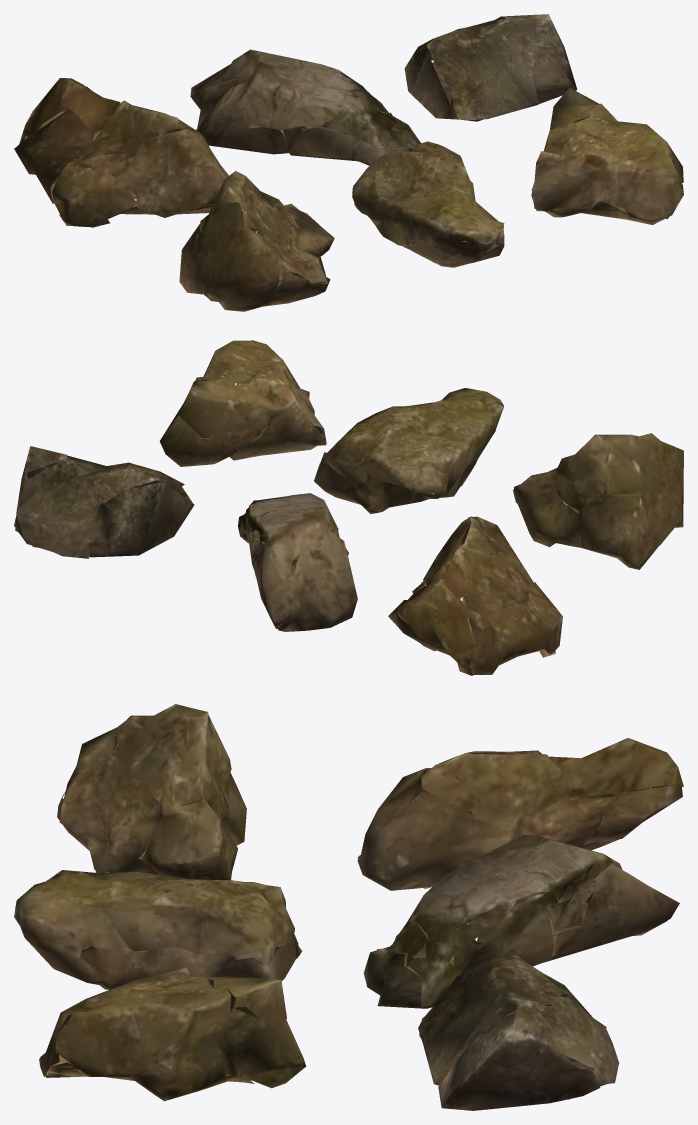
The model's file is rock_moss_set_01.glb.
3 views of the same model, one above another, from view 1: azimuth 30°, elevation 25°; view 2: azimuth 150°, elevation 25°; view 3: azimuth 270°, elevation 25° (orthographic). The views are drawn at different scales.
Visible parts, largest first — view 1: rock_moss_set_01_rock01, rock_moss_set_01_rock02, rock_moss_set_01_rock04, rock_moss_set_01_rock06, rock_moss_set_01_rock03, rock_moss_set_01_rock05; view 2: rock_moss_set_01_rock04, rock_moss_set_01_rock01, rock_moss_set_01_rock05, rock_moss_set_01_rock03, rock_moss_set_01_rock06, rock_moss_set_01_rock02; view 3: rock_moss_set_01_rock01, rock_moss_set_01_rock02, rock_moss_set_01_rock05, rock_moss_set_01_rock04, rock_moss_set_01_rock06, rock_moss_set_01_rock03.
Part boxes in pixels (bbox=[...]): rock_moss_set_01_rock01: bbox=[14, 78, 228, 227]; rock_moss_set_01_rock02: bbox=[190, 49, 420, 165]; rock_moss_set_01_rock04: bbox=[179, 171, 334, 311]; rock_moss_set_01_rock06: bbox=[531, 88, 683, 224]; rock_moss_set_01_rock03: bbox=[404, 14, 577, 121]; rock_moss_set_01_rock05: bbox=[352, 141, 504, 267]; rock_moss_set_01_rock04: bbox=[513, 433, 683, 569]; rock_moss_set_01_rock01: bbox=[388, 516, 562, 675]; rock_moss_set_01_rock05: bbox=[314, 388, 503, 514]; rock_moss_set_01_rock03: bbox=[14, 446, 194, 558]; rock_moss_set_01_rock06: bbox=[159, 340, 326, 466]; rock_moss_set_01_rock02: bbox=[238, 493, 357, 631]; rock_moss_set_01_rock01: bbox=[357, 738, 683, 890]; rock_moss_set_01_rock02: bbox=[363, 835, 679, 1008]; rock_moss_set_01_rock05: bbox=[14, 870, 302, 989]; rock_moss_set_01_rock04: bbox=[57, 704, 246, 879]; rock_moss_set_01_rock06: bbox=[39, 967, 306, 1101]; rock_moss_set_01_rock03: bbox=[418, 955, 619, 1110].
Bounding box in the file's own units: 7.97 × 1.77 × 6.93.
Materials: 1 (1 with a texture image).
